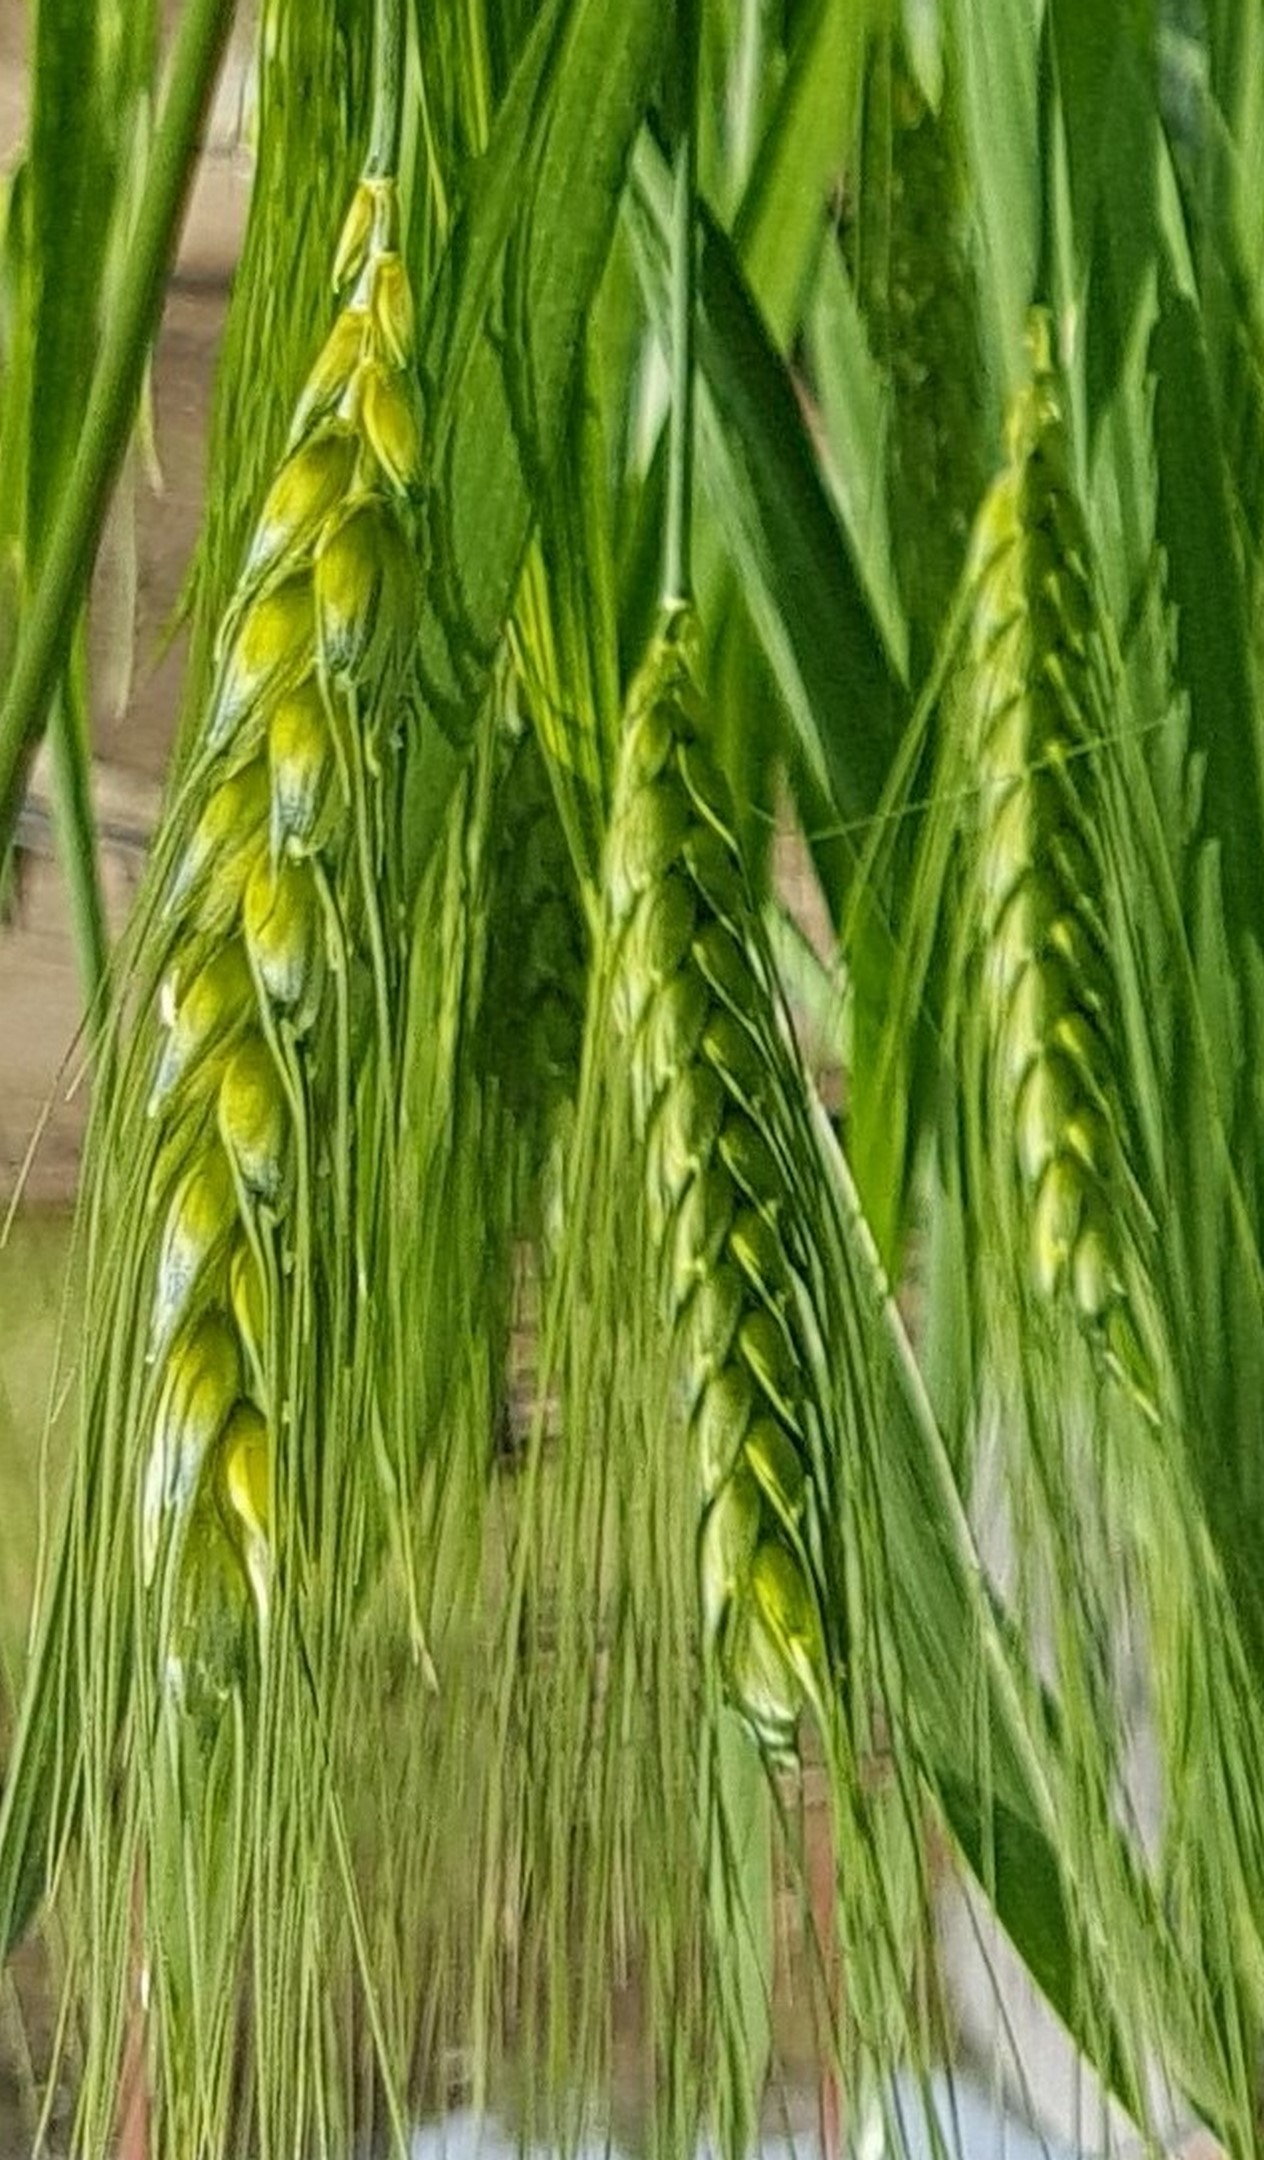Healthy Wheat: (84, 220, 459, 1652), (561, 624, 895, 1733), (924, 417, 1235, 1312)
